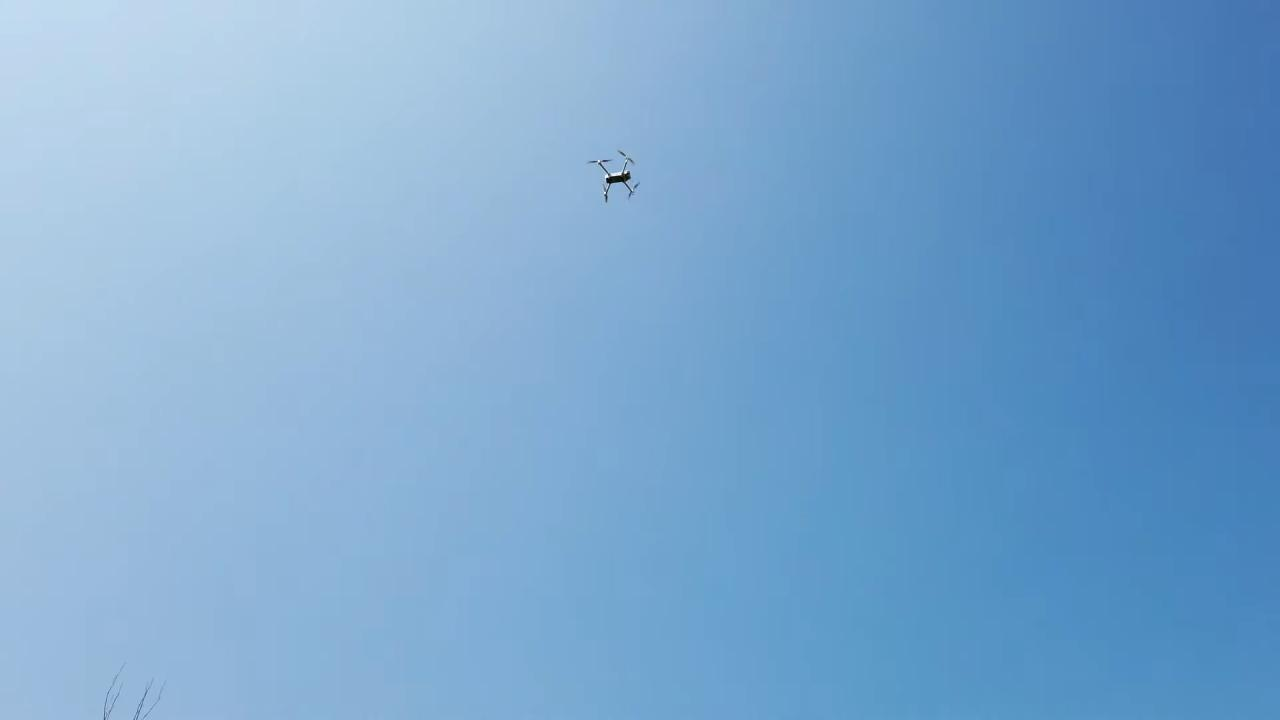Drone: (582, 144, 647, 208)
